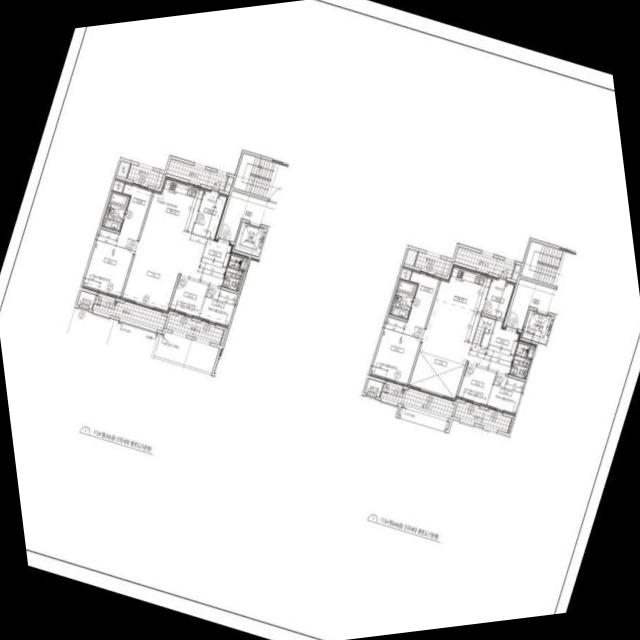background: (0, 0, 640, 640)
space_balconi: (92, 295, 167, 331), (380, 383, 454, 419), (453, 246, 515, 278), (166, 159, 227, 190), (166, 314, 223, 345), (453, 402, 511, 432), (414, 252, 451, 276), (126, 164, 163, 188)
space_bedroom: (369, 317, 424, 386), (82, 229, 136, 299), (169, 276, 208, 319), (198, 285, 237, 328), (486, 373, 524, 416), (457, 364, 495, 407)
space_dressroom: (119, 181, 152, 240), (407, 269, 439, 328)
space_elevator: (521, 309, 554, 344), (234, 222, 266, 256)
space_elevator_hall: (505, 252, 575, 329), (218, 191, 276, 242)
space_front: (487, 320, 520, 356), (201, 238, 231, 268)
space_kitchen: (426, 264, 492, 344), (138, 176, 204, 255)
space_living_room: (121, 234, 225, 313), (409, 330, 513, 401)
space_multipurpose_space: (192, 188, 228, 240), (482, 276, 515, 319)
space_other: (116, 161, 130, 178), (404, 249, 417, 266), (399, 266, 412, 280), (112, 178, 124, 192), (511, 264, 521, 280), (224, 176, 233, 192), (527, 346, 535, 358), (240, 259, 248, 270)
space_outdoor_room: (364, 378, 383, 397), (76, 291, 95, 309)
space_staircase: (233, 153, 288, 202), (520, 241, 567, 286), (472, 315, 495, 348)
space_toilet: (389, 279, 417, 319), (221, 255, 244, 291), (509, 343, 530, 378)
